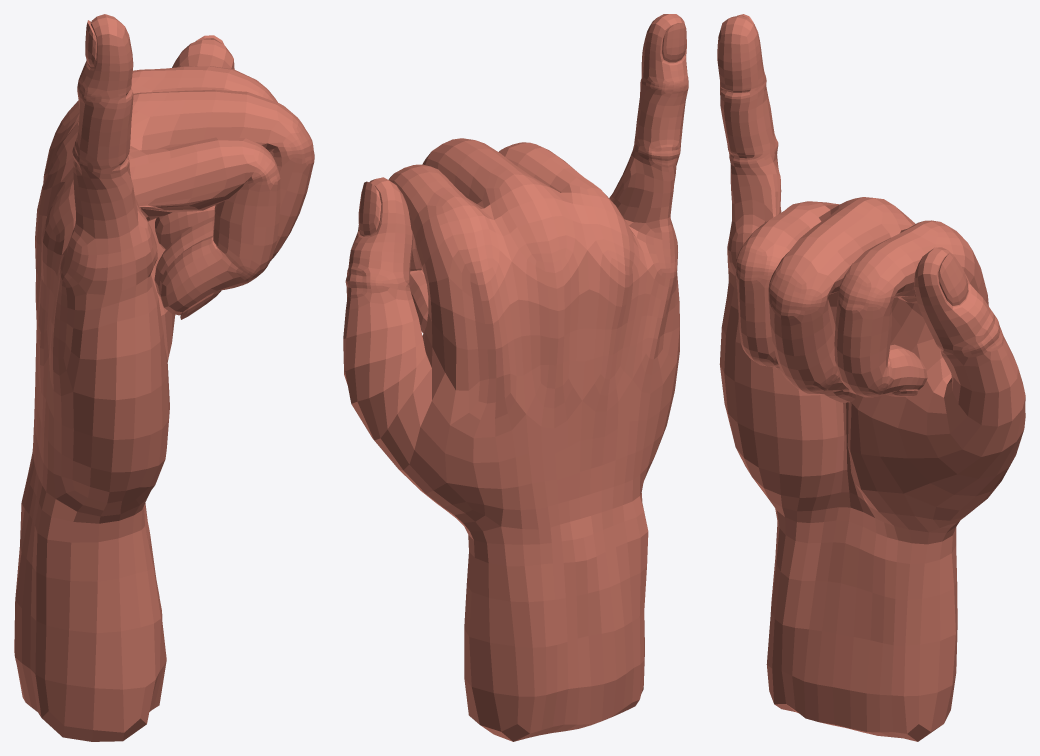
Rendered from jeem.glb.
3 renders of one model, left to right at view 1: azimuth 30°, elevation 25°; view 2: azimuth 150°, elevation 25°; view 3: azimuth 270°, elevation 25°, orthographic. The views are drawn at different scales.
Parts seen in each view (by area): view 1: ZBrushPolyMesh3D; view 2: ZBrushPolyMesh3D; view 3: ZBrushPolyMesh3D.
Part boxes in pixels (x1=…): ZBrushPolyMesh3D: x1=14, y1=14, x2=314, y2=741; ZBrushPolyMesh3D: x1=343, y1=14, x2=688, y2=741; ZBrushPolyMesh3D: x1=717, y1=14, x2=1025, y2=741.
Size of the model in its own units: 1.77 by 4.74 by 1.96.
